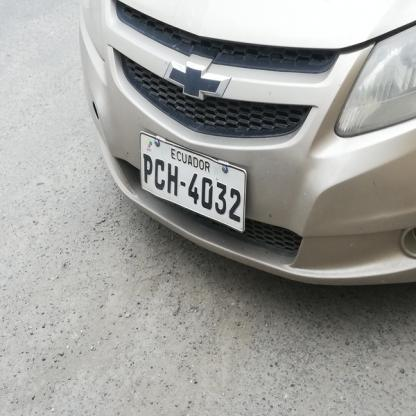Placa: (137, 124, 249, 236)
